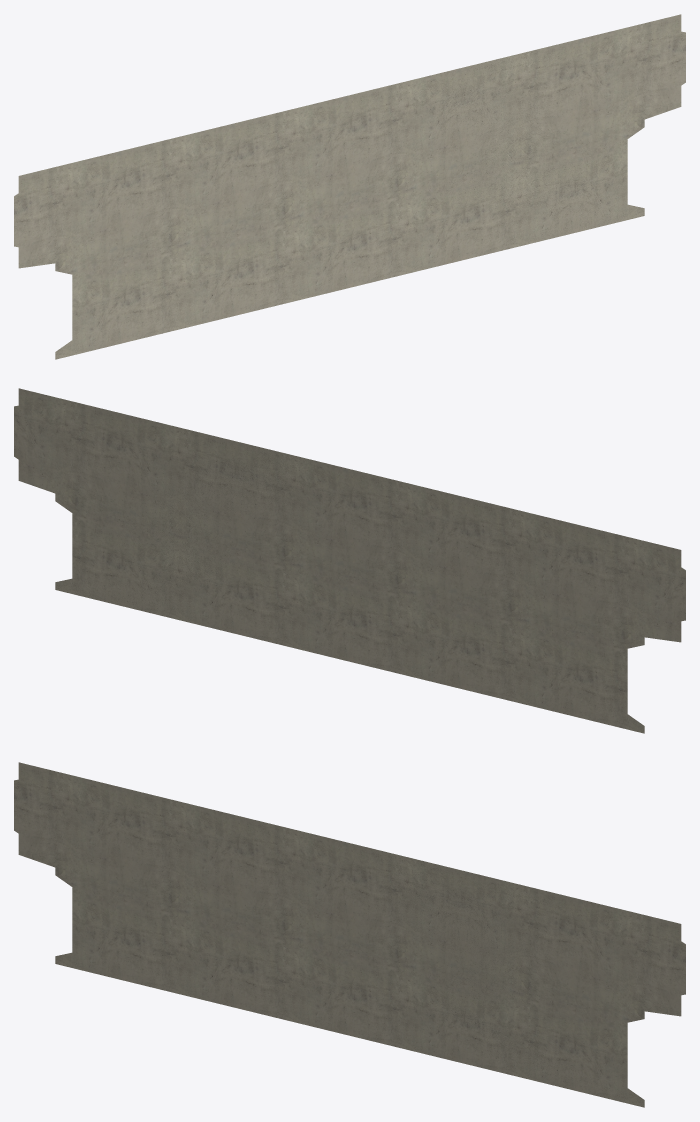
Rendered from BridgeBase9-2L-Cap.FBX.
3 views of the same model, one above another, from view 1: azimuth 30°, elevation 25°; view 2: azimuth 150°, elevation 25°; view 3: azimuth 330°, elevation 25° (orthographic).
Parts seen in each view (by area): view 1: BridgeBase9-2L-Cap; view 2: BridgeBase9-2L-Cap; view 3: BridgeBase9-2L-Cap.
Boxes of the visible parts, x1,y1,x2,y2 form: BridgeBase9-2L-Cap: [14, 14, 685, 359]; BridgeBase9-2L-Cap: [14, 388, 685, 733]; BridgeBase9-2L-Cap: [14, 762, 685, 1107].
Bounding box in the file's own units: 18.25 × 5 × 2.97e-06.
